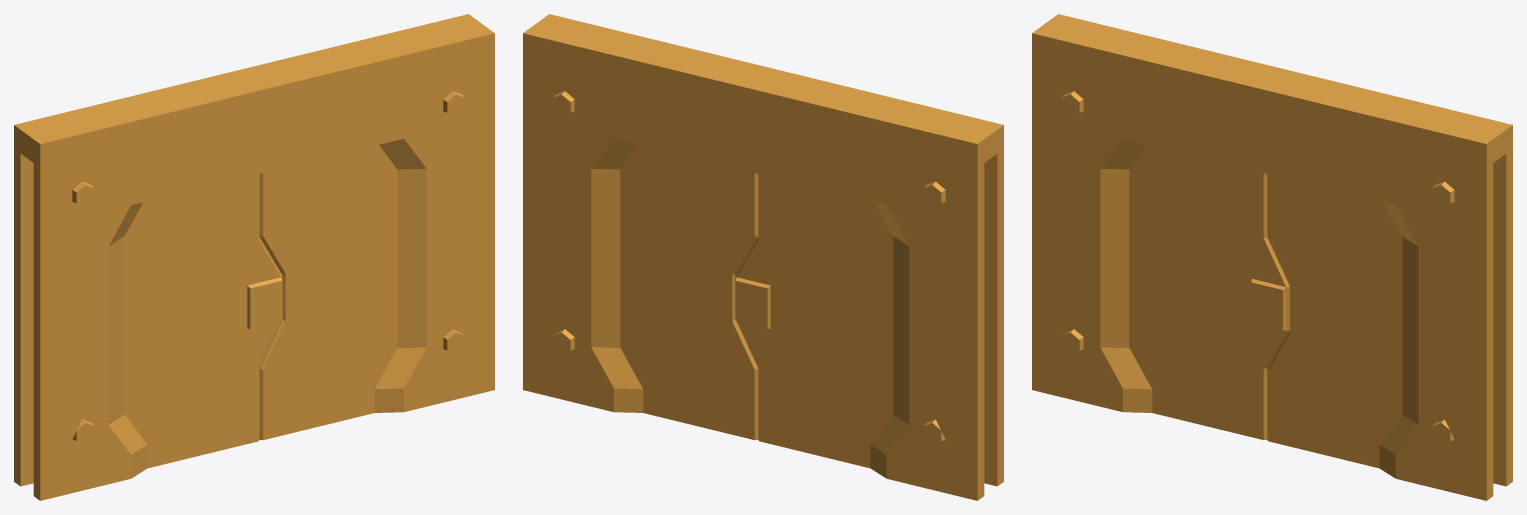
The model's file is scifi-door-metal.fbx.
3 renders of one model, left to right at view 1: azimuth 30°, elevation 25°; view 2: azimuth 150°, elevation 25°; view 3: azimuth 330°, elevation 25°, orthographic.
Parts seen in each view (by area): view 1: scifi-door-frame-metal, scifi-door-metal_L, scifi-door-metal_R; view 2: scifi-door-frame-metal, scifi-door-metal_L, scifi-door-metal_R; view 3: scifi-door-frame-metal, scifi-door-metal_L, scifi-door-metal_R.
Boxes of the visible parts, bbox=[...] form: scifi-door-frame-metal: bbox=[14, 14, 494, 500]; scifi-door-metal_L: bbox=[124, 174, 282, 468]; scifi-door-metal_R: bbox=[259, 145, 397, 440]; scifi-door-frame-metal: bbox=[523, 14, 1003, 500]; scifi-door-metal_L: bbox=[735, 174, 893, 468]; scifi-door-metal_R: bbox=[620, 145, 758, 440]; scifi-door-frame-metal: bbox=[1032, 14, 1512, 500]; scifi-door-metal_L: bbox=[1129, 145, 1289, 440]; scifi-door-metal_R: bbox=[1267, 174, 1402, 468].
Bounding box in the file's own units: 4 × 3 × 0.5004.
